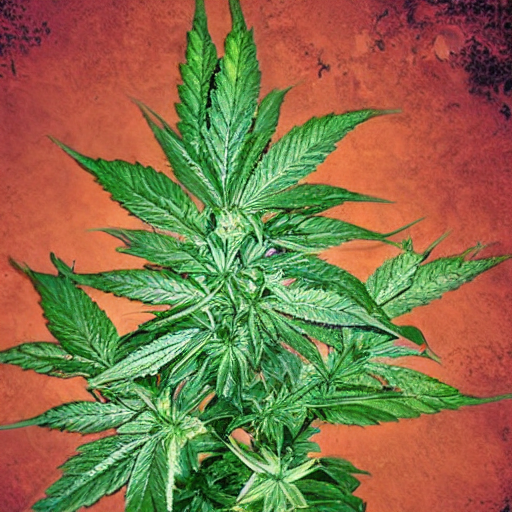Marijuana Bud: (1, 5, 478, 512)
